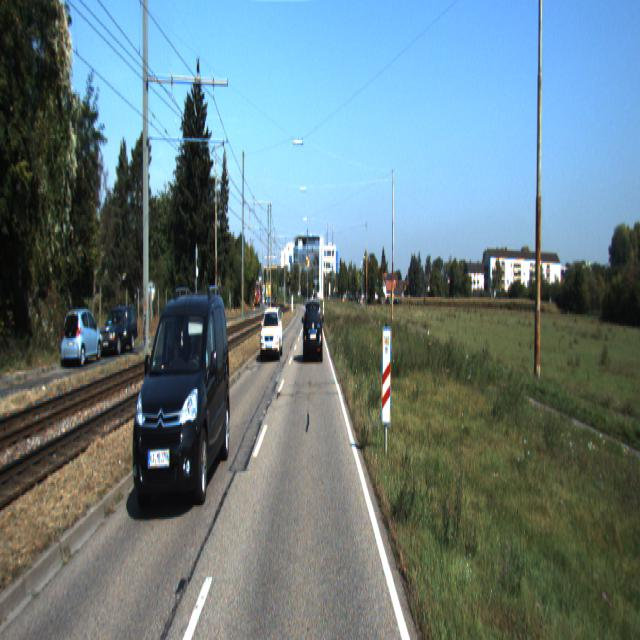Car: (132, 284, 234, 513), (61, 308, 104, 373), (98, 304, 139, 360), (304, 298, 323, 364), (261, 307, 283, 362)
